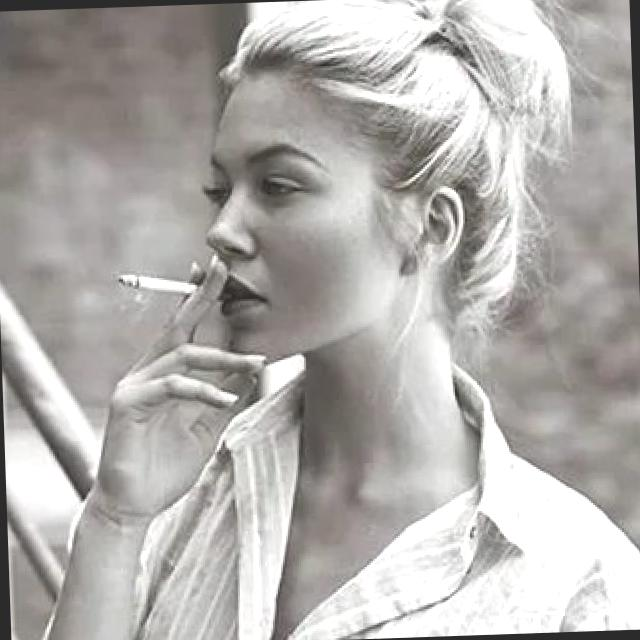smoke: (112, 264, 209, 301)
